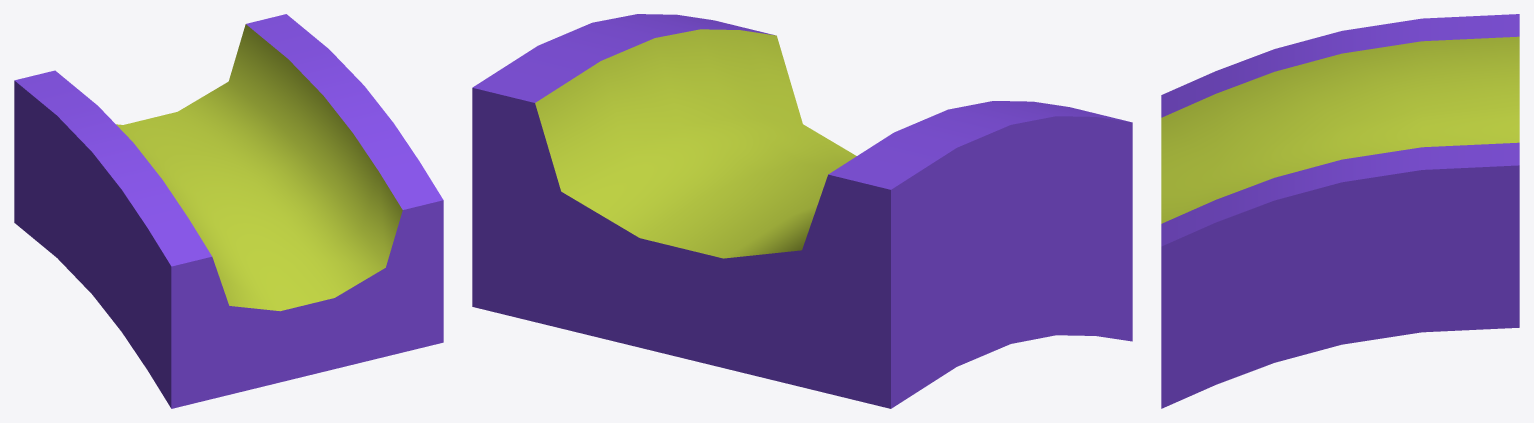
Rendered from rampEnd_B-col.dae.
3 views of the same model, side by side, from view 1: azimuth 30°, elevation 25°; view 2: azimuth 150°, elevation 25°; view 3: azimuth 270°, elevation 25° (orthographic). The views are drawn at different scales.
Visible parts, largest first — view 1: rampEnd_B-col; view 2: rampEnd_B-col; view 3: rampEnd_B-col.
Boxes of the visible parts, x1=… form: rampEnd_B-col: x1=14, y1=14, x2=443, y2=408; rampEnd_B-col: x1=472, y1=14, x2=1132, y2=408; rampEnd_B-col: x1=1161, y1=14, x2=1519, y2=408.
Size of the model in its own units: 1 by 1 by 0.75.
